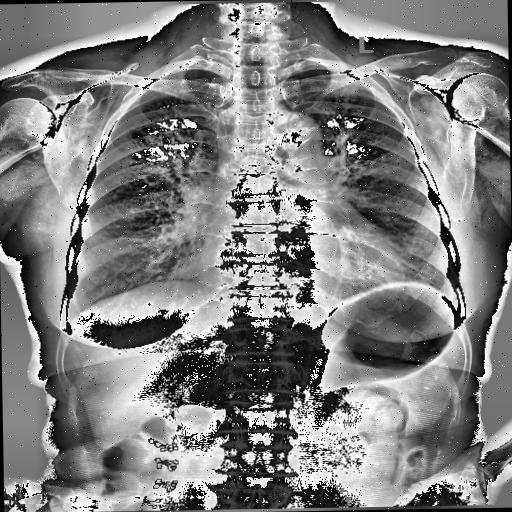0- Aortic enlargement: (254, 108, 327, 176), (264, 112, 328, 172)
13- Pulmonary fibrosis: (124, 90, 210, 180), (334, 114, 352, 188)
3- Cardiomegaly: (200, 226, 418, 298), (198, 232, 412, 292), (196, 240, 410, 296)
6- Infiltration: (124, 90, 210, 180)
